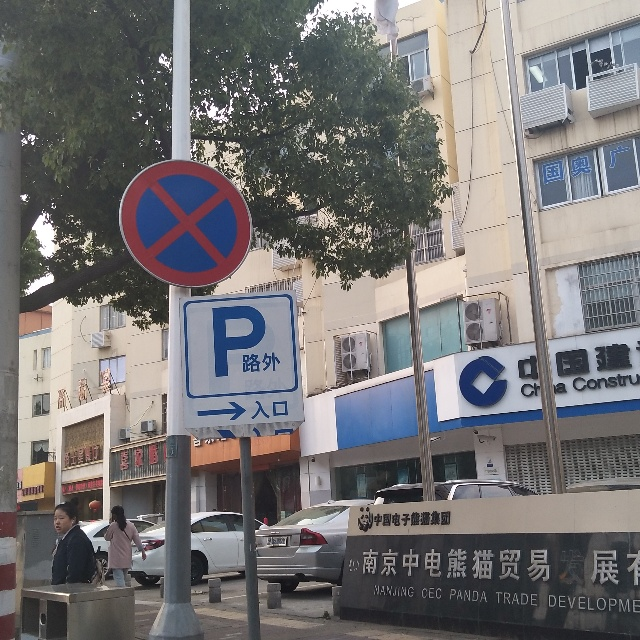stop: (145, 173, 243, 277)
